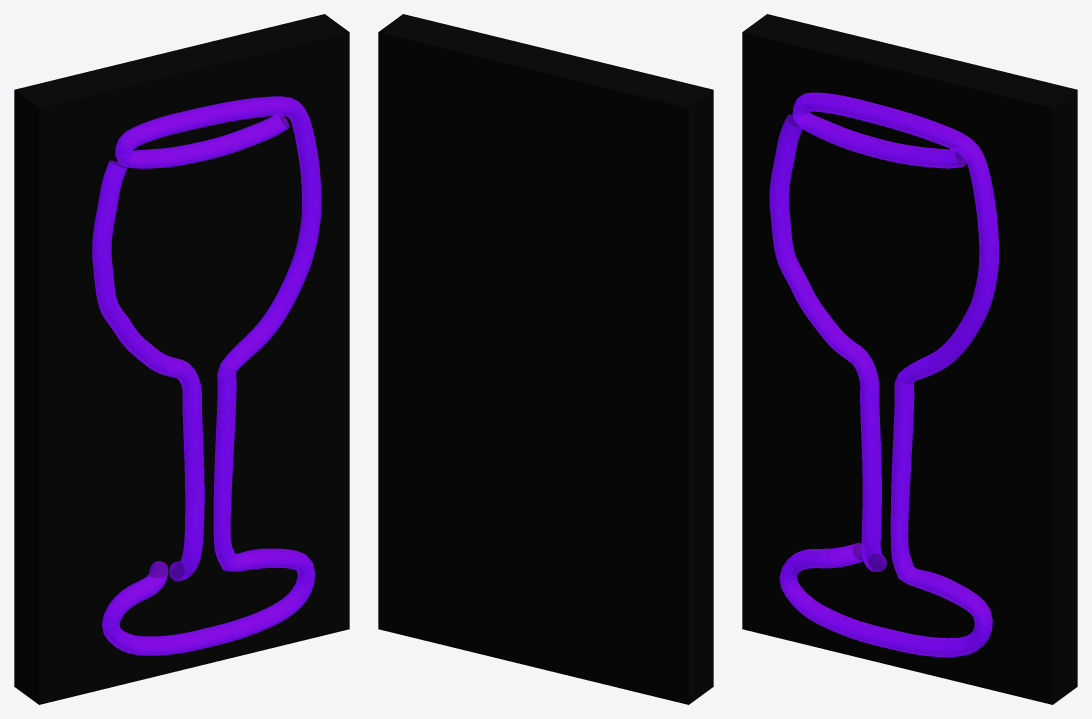
The model's file is Wine_Glass_neon_sign.fbx.
3 views of the same model, side by side, from view 1: azimuth 30°, elevation 25°; view 2: azimuth 150°, elevation 25°; view 3: azimuth 330°, elevation 25° (orthographic).
Visible parts, largest first — view 1: polySurface1; view 2: polySurface1; view 3: polySurface1.
Boxes of the visible parts, x1=… form: polySurface1: x1=14, y1=14, x2=349, y2=704; polySurface1: x1=378, y1=14, x2=713, y2=704; polySurface1: x1=742, y1=14, x2=1077, y2=704.
Size of the model in its own units: 7.18 by 13.19 by 1.71.
